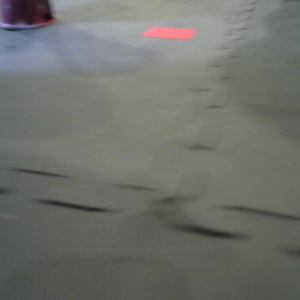right: (1, 1, 63, 36)
